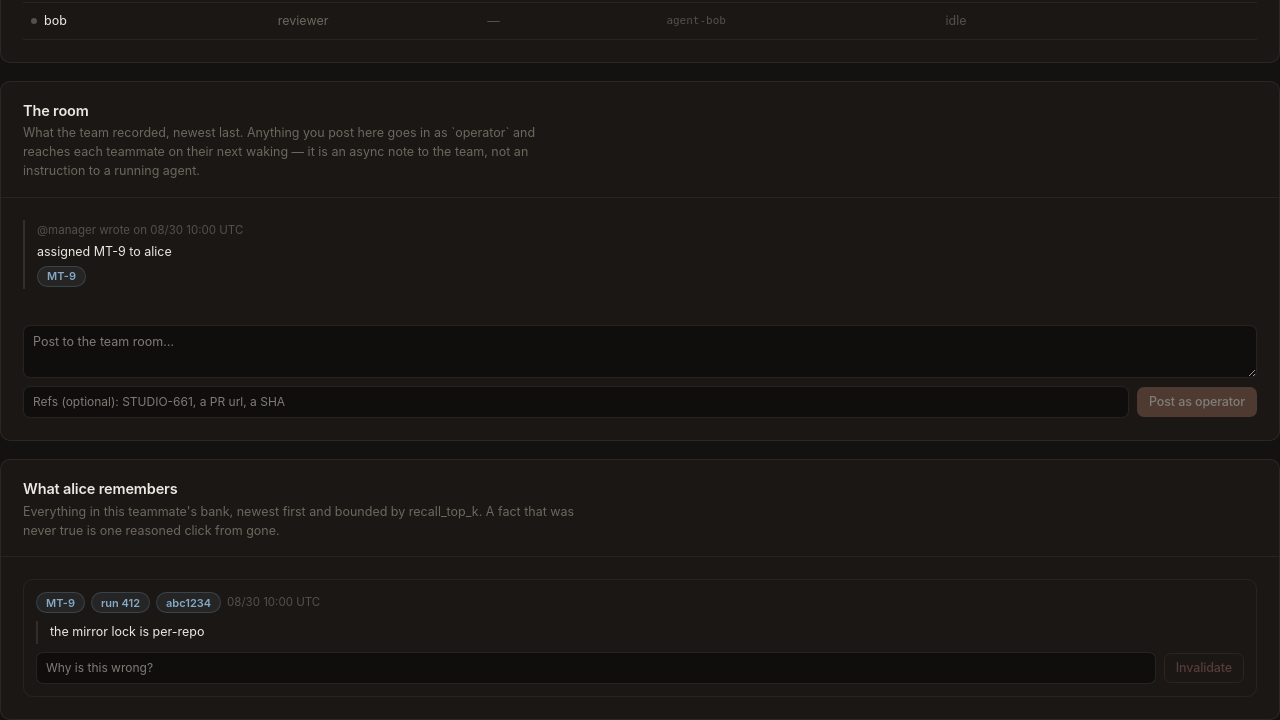
Test: TeamsPanel memory › surfaces the daemon's own complaint when an invalidate fails
The image size is (1280, 720).
(page scrolled)
Type "measured otherwise" into the field with placeholder "Why is this wrong?".
click(596, 668); type("measured otherwise")  # box [36,652,1156,684]
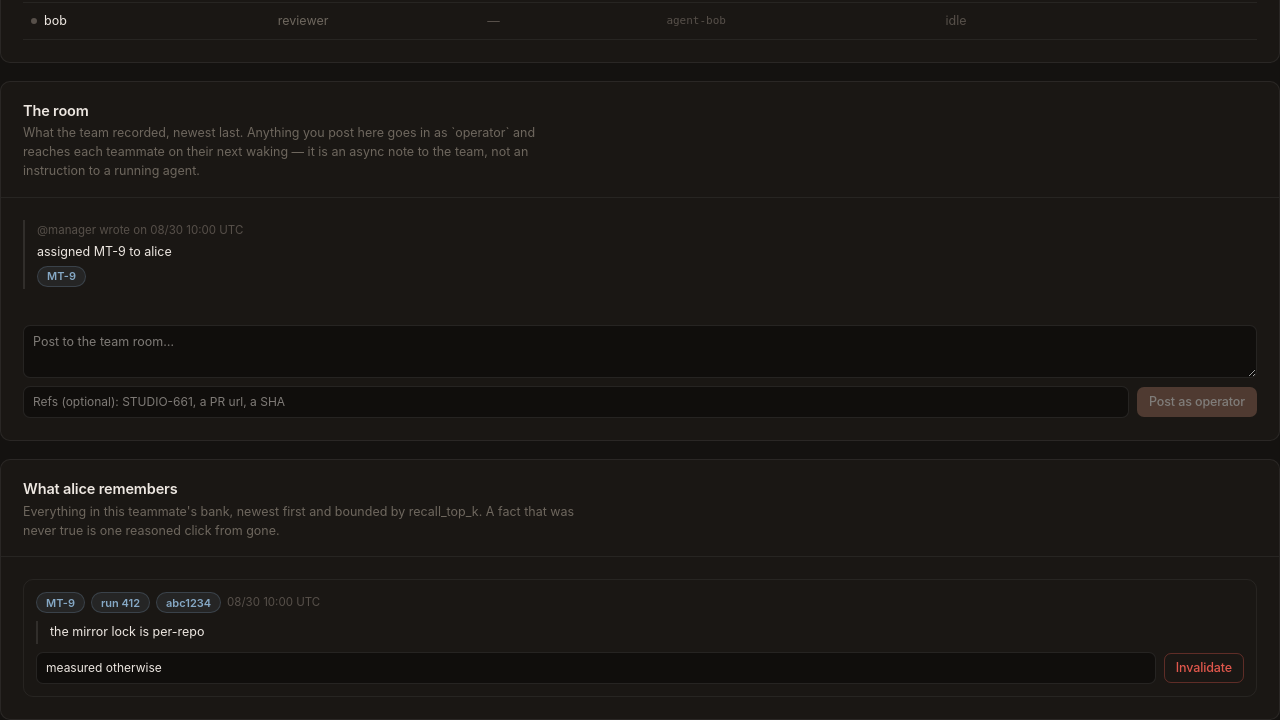
Click the button "Invalidate".
click(1204, 668)  # box [1164,653,1244,683]
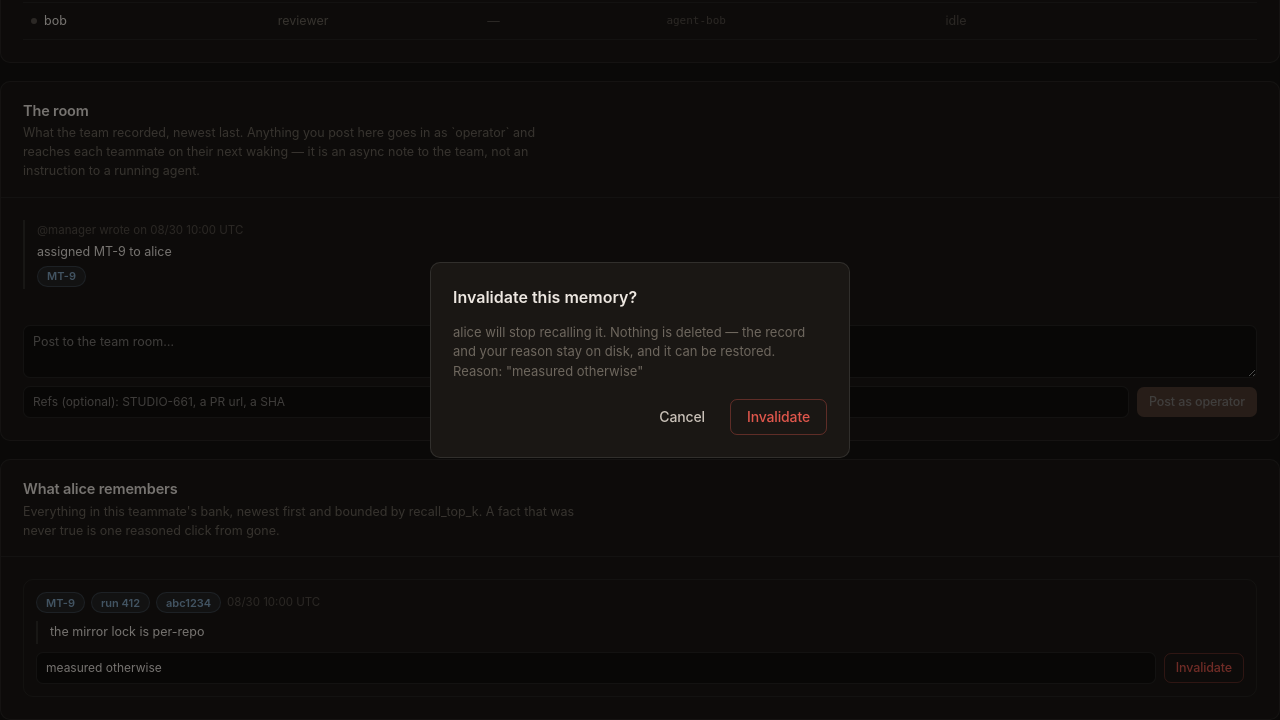
Click the button "Invalidate".
click(778, 417)  # box [730,399,827,435]
(page scrolled)
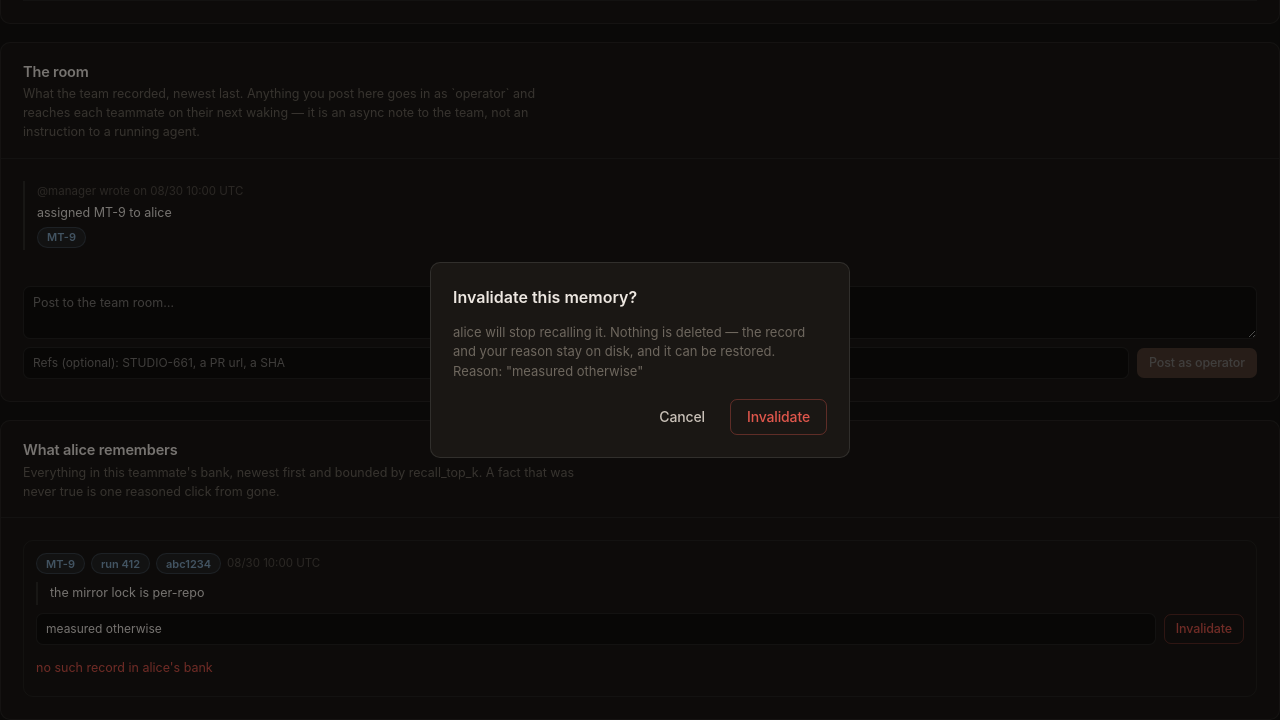
expect the text "no such record in alice's bank" is shown: met, box [36,660,213,675]
